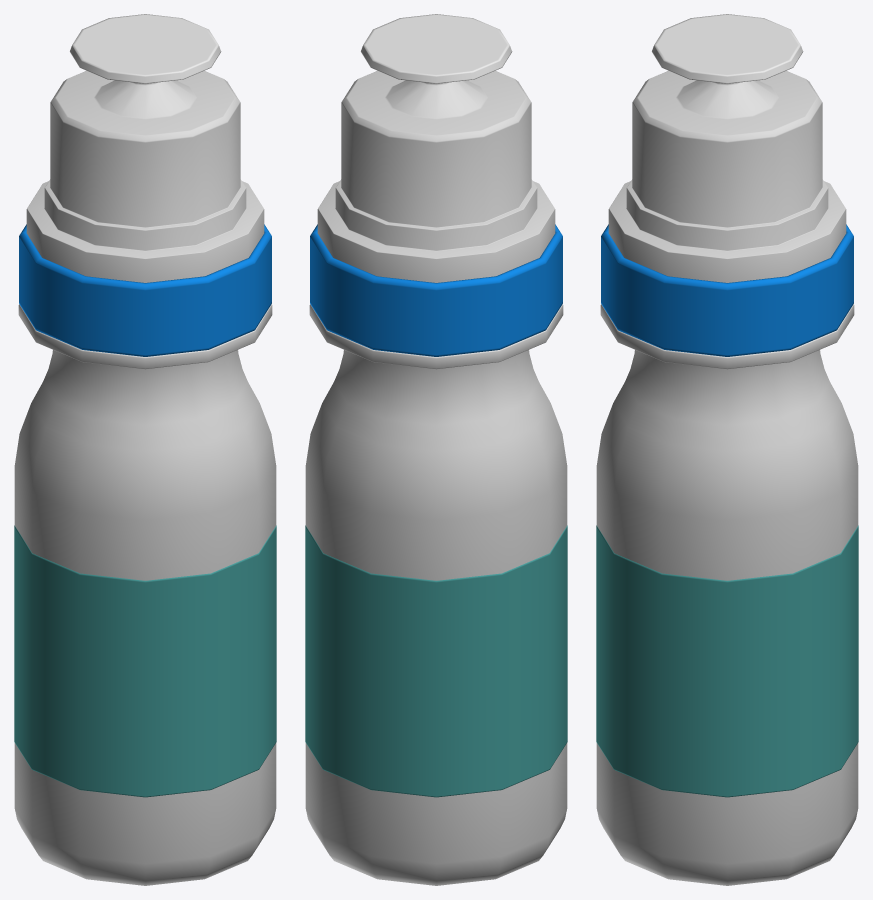
Rendered from EyeDropsBottle2.glb.
3 renders of one model, left to right at view 1: azimuth 30°, elevation 25°; view 2: azimuth 150°, elevation 25°; view 3: azimuth 270°, elevation 25°, orthographic.
Parts seen in each view (by area): view 1: EyeDropsBottle2, Label, BlueRing, Cover; view 2: EyeDropsBottle2, Label, BlueRing, Cover; view 3: EyeDropsBottle2, Label, BlueRing, Cover.
Boxes of the visible parts, x1,y1,x2,y2 form: EyeDropsBottle2: [14, 70, 276, 885]; Label: [14, 525, 276, 797]; BlueRing: [19, 224, 271, 356]; Cover: [69, 14, 221, 83]; EyeDropsBottle2: [305, 70, 567, 885]; Label: [305, 525, 567, 797]; BlueRing: [310, 224, 562, 356]; Cover: [360, 14, 512, 83]; EyeDropsBottle2: [596, 70, 858, 885]; Label: [596, 525, 858, 797]; BlueRing: [601, 224, 853, 356]; Cover: [651, 14, 803, 83].
Size of what is drawn, in the model's own units: 0.017 by 0.0568 by 0.017.
